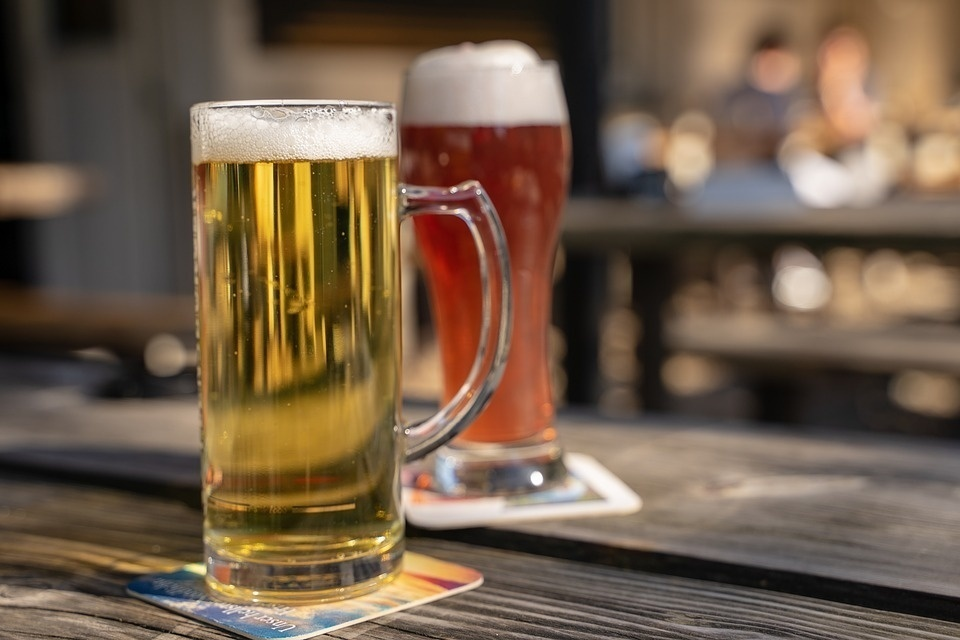whiskey: (196, 98, 398, 603)
